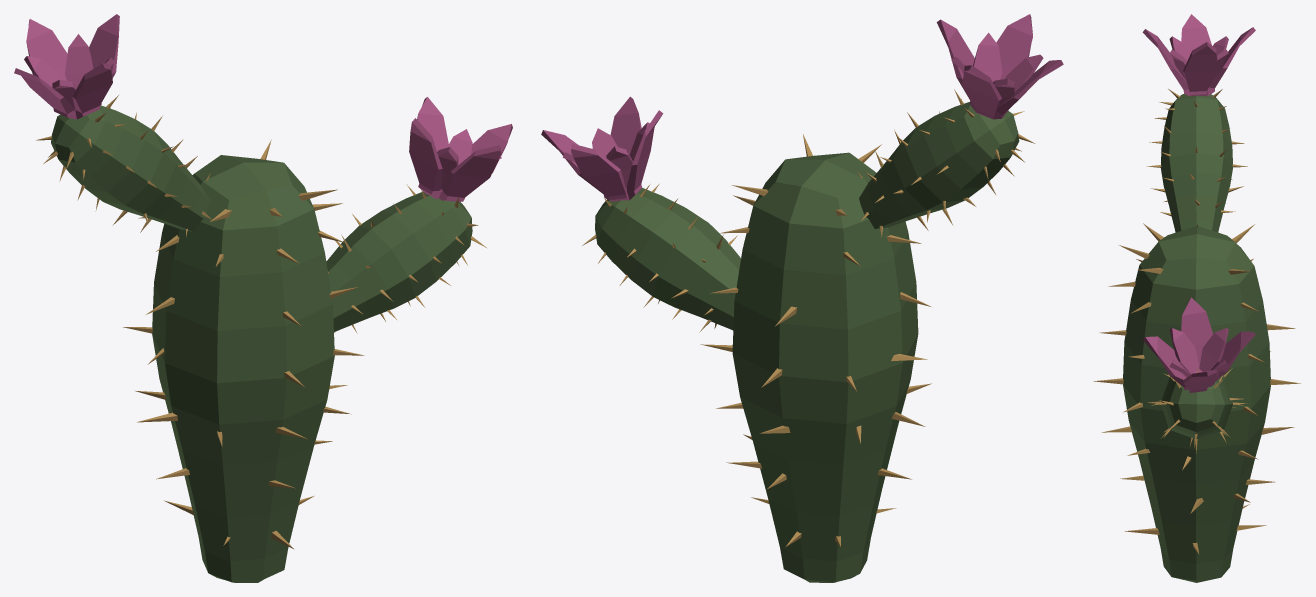
File: Cactus_4.gltf
3 views of the same model, side by side, from view 1: azimuth 30°, elevation 25°; view 2: azimuth 150°, elevation 25°; view 3: azimuth 270°, elevation 25° (orthographic). The views are drawn at different scales.
Visible parts, largest first — view 1: Cactus_4; view 2: Cactus_4; view 3: Cactus_4.
Part boxes in pixels (left/top/right/bottom): Cactus_4: left=14, top=14, right=512, bottom=582; Cactus_4: left=541, top=14, right=1063, bottom=582; Cactus_4: left=1094, top=14, right=1300, bottom=582.
Bounding box in the file's own units: 1.31 × 1.43 × 0.5629.
